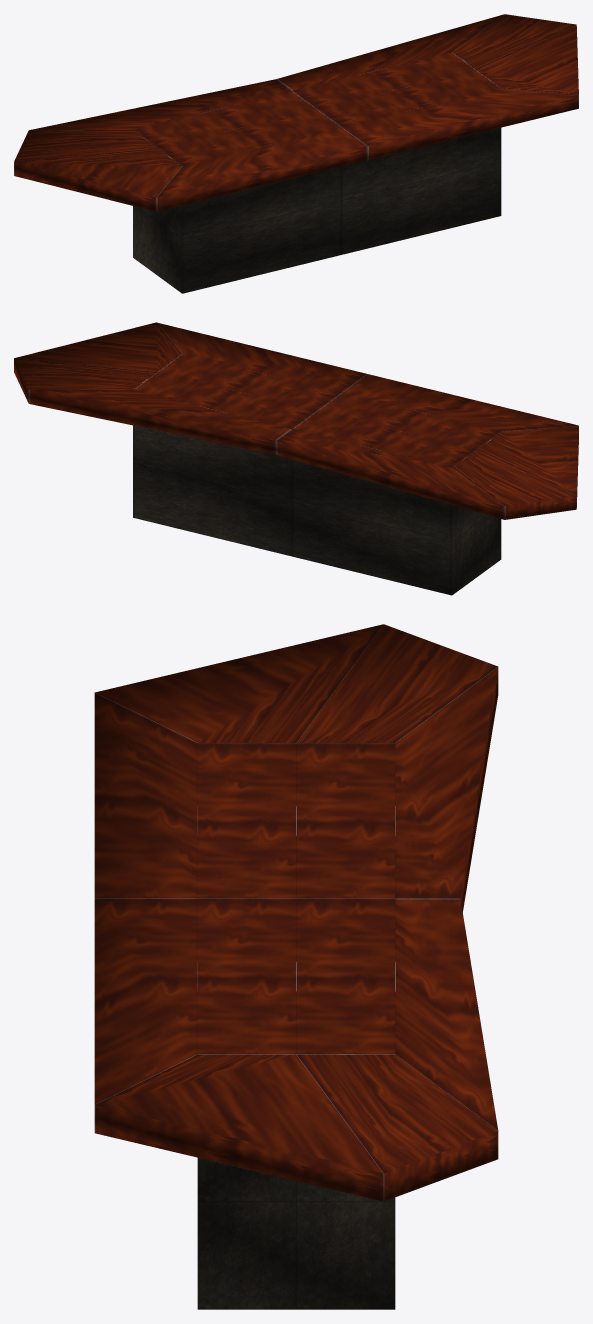
The model's file is front_desk.fbx.
The picture shows the model from 3 angles, top to bottom: view 1: azimuth 30°, elevation 25°; view 2: azimuth 150°, elevation 25°; view 3: azimuth 270°, elevation 25°; orthographic projection. The views are drawn at different scales.
Visible parts, largest first — view 1: front_desk; view 2: front_desk; view 3: front_desk.
Boxes of the visible parts, left/top/right/bottom form: front_desk: left=14, top=14, right=578, bottom=293; front_desk: left=14, top=322, right=578, bottom=595; front_desk: left=94, top=624, right=498, bottom=1309.
Bounding box in the file's own units: 573 × 124 × 178.
1 material, 1 textured.
